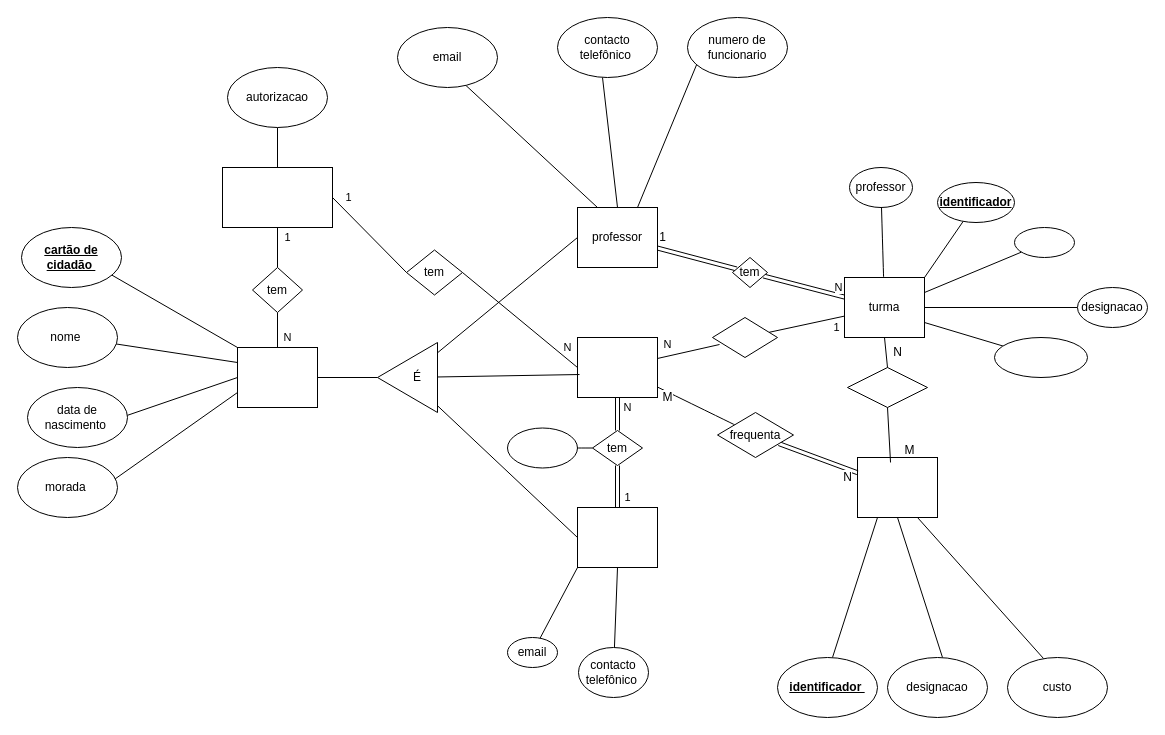
Some shapes in this 1165 by 735 pixel diagram are drawn without their labels. Here are the shapes that lost their labels. From the top down, the centre of each, then its label:
the point at 277,197: lista de pessoas (entregar/levantar)
the point at 1044,242: ano letivo
the point at 745,337: pertence
the point at 1041,357: nº máximo de alunos
the point at 277,377: pessoa
the point at 617,367: aluno
the point at 887,387: faz
the point at 542,447: tipo de relação
the point at 897,487: atividade
the point at 617,537: encarregado de educação
